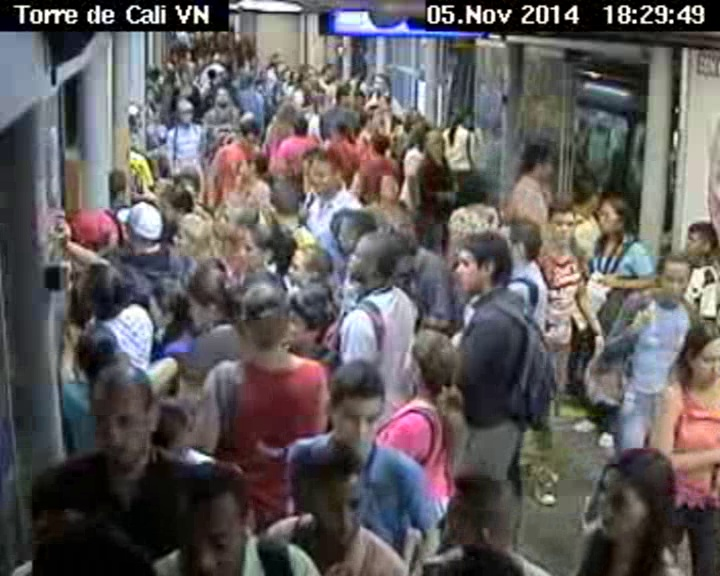person: (578, 440, 690, 555), (166, 460, 255, 576), (80, 358, 167, 470), (289, 445, 372, 542), (435, 472, 521, 554), (325, 363, 389, 452), (403, 331, 467, 411), (232, 280, 296, 358), (344, 229, 410, 301), (446, 232, 511, 304), (672, 314, 720, 394), (185, 267, 242, 333), (75, 258, 135, 317), (141, 272, 201, 328), (60, 203, 120, 252), (284, 240, 339, 293), (494, 214, 546, 270), (646, 252, 697, 308), (114, 198, 166, 250), (70, 322, 120, 371), (239, 226, 282, 279), (543, 196, 582, 252), (216, 200, 262, 246), (517, 142, 560, 189), (306, 152, 346, 201), (596, 192, 635, 242), (259, 187, 306, 223), (682, 219, 717, 263), (375, 168, 410, 207), (173, 165, 207, 199), (238, 151, 269, 183), (421, 126, 447, 161), (368, 129, 392, 158), (237, 117, 262, 143), (452, 106, 476, 131), (333, 82, 357, 107), (369, 70, 395, 93), (175, 97, 196, 125), (291, 115, 314, 138), (211, 85, 231, 105), (288, 87, 307, 106), (239, 75, 260, 90)
